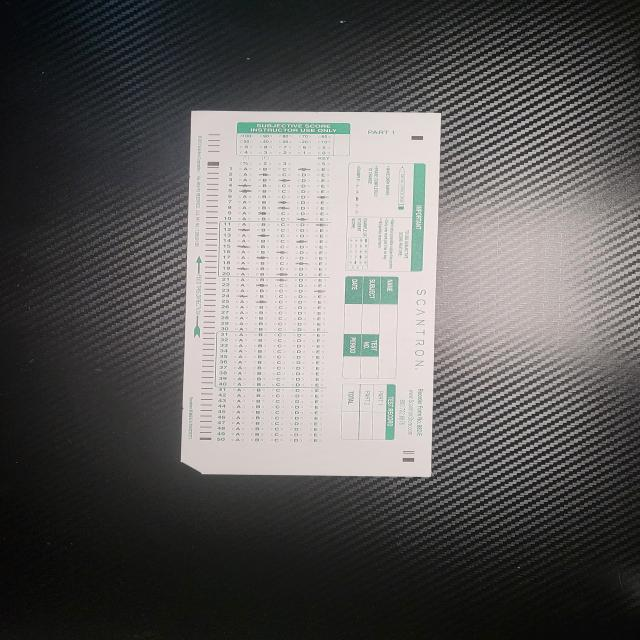scantron: (180, 111, 441, 478)
